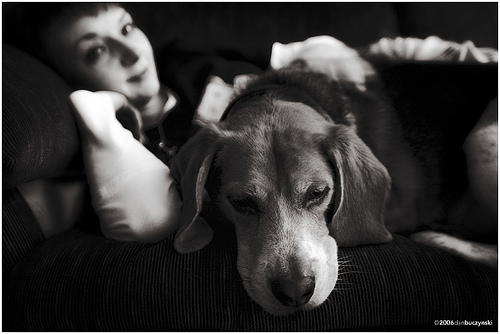without_mask: (58, 7, 166, 111)
